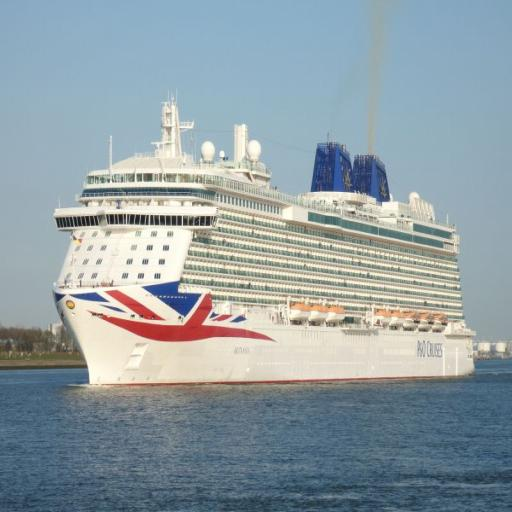cruises: (50, 95, 482, 392)
